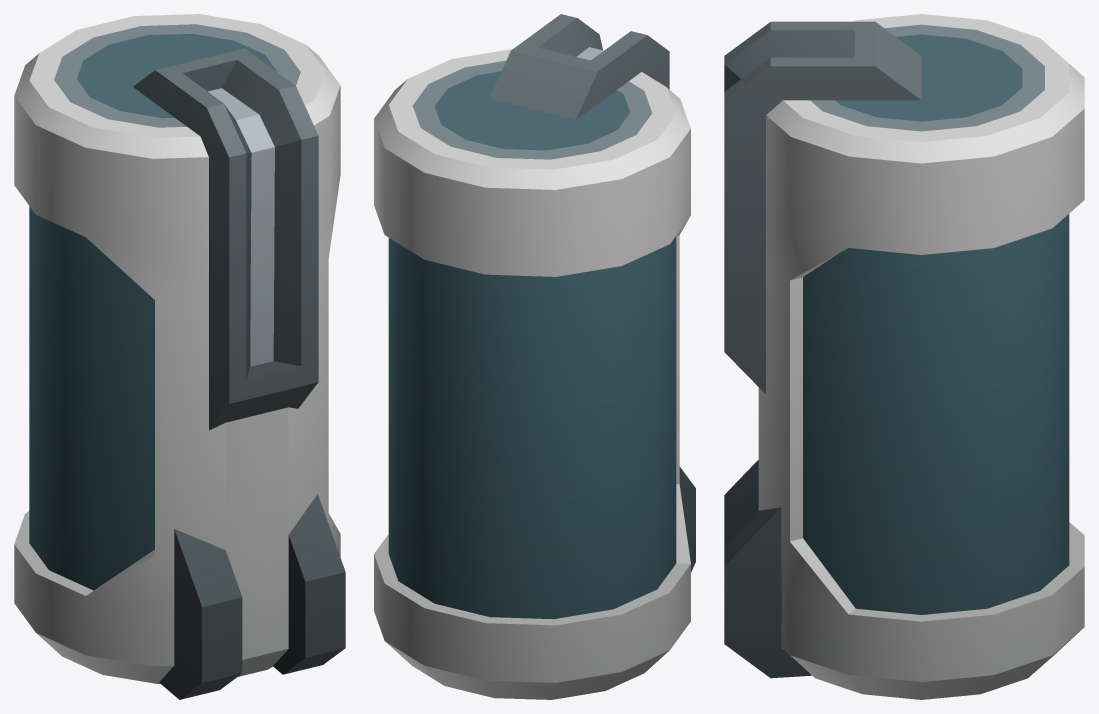
Rendered from Battery_006.fbx.
The picture shows the model from 3 angles, left to right: view 1: azimuth 30°, elevation 25°; view 2: azimuth 150°, elevation 25°; view 3: azimuth 270°, elevation 25°; orthographic projection. The views are drawn at different scales.
Parts seen in each view (by area): view 1: Battery_006; view 2: Battery_006; view 3: Battery_006.
Boxes of the visible parts, left/top/right/bottom form: Battery_006: left=14, top=14, right=345, bottom=699; Battery_006: left=374, top=14, right=695, bottom=699; Battery_006: left=724, top=14, right=1084, bottom=699.
Bounding box in the file's own units: 44.1 × 47.51 × 87.12.
